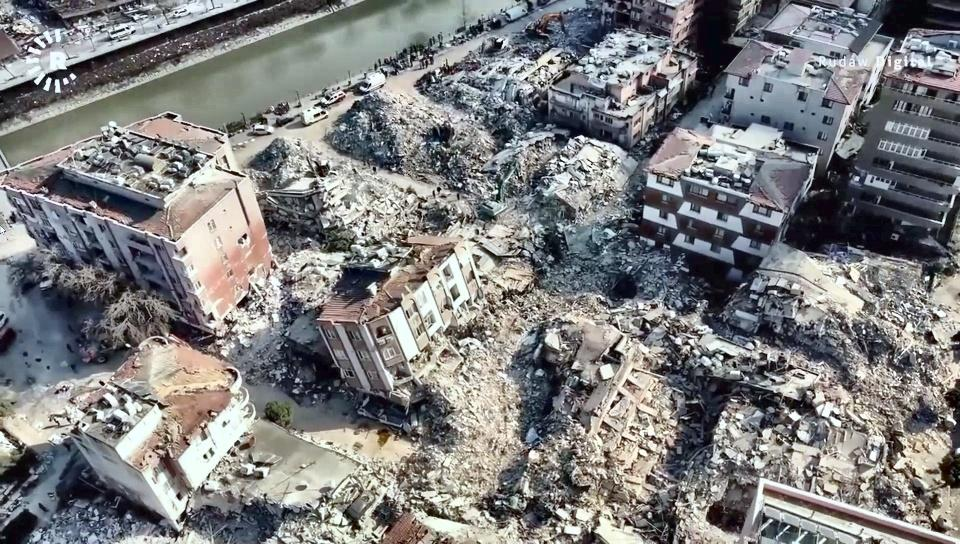kapali: (337, 412, 670, 543)
